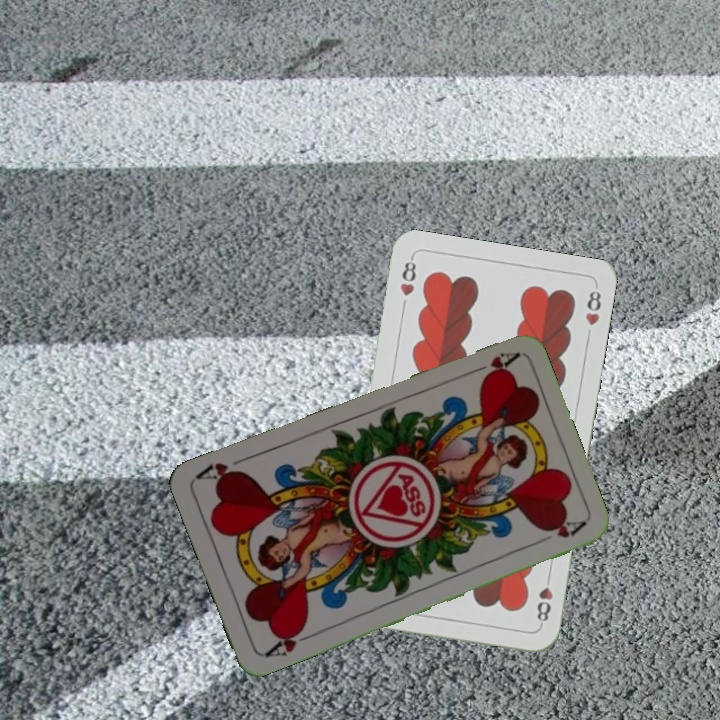H8: (532, 570, 555, 628), (396, 254, 419, 299)
HA: (260, 622, 317, 660), (463, 347, 520, 384)
